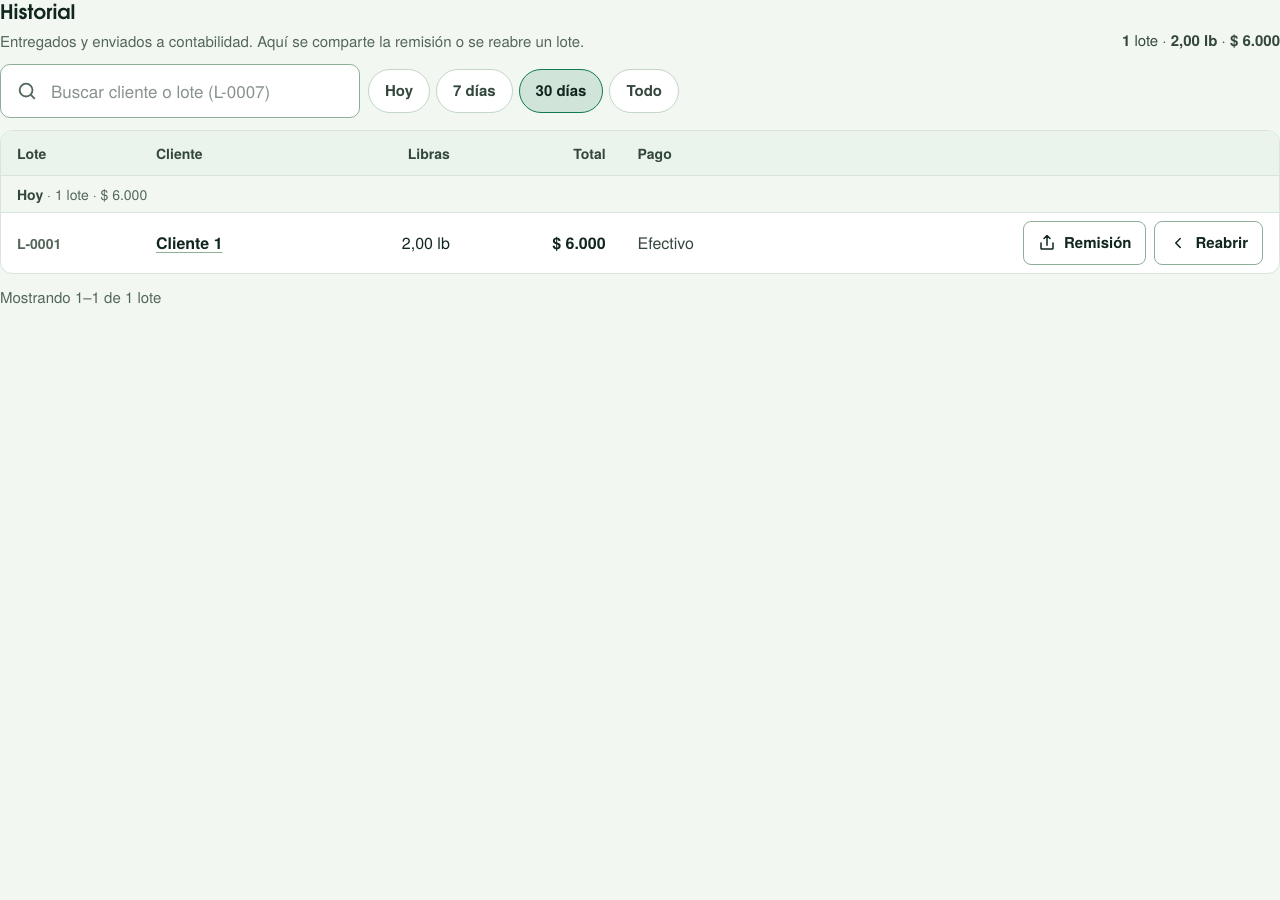
Test: Historial › cancelar no reabre
Click the button "Reabrir" at (1209,243), box 1154,221 -> 1263,265
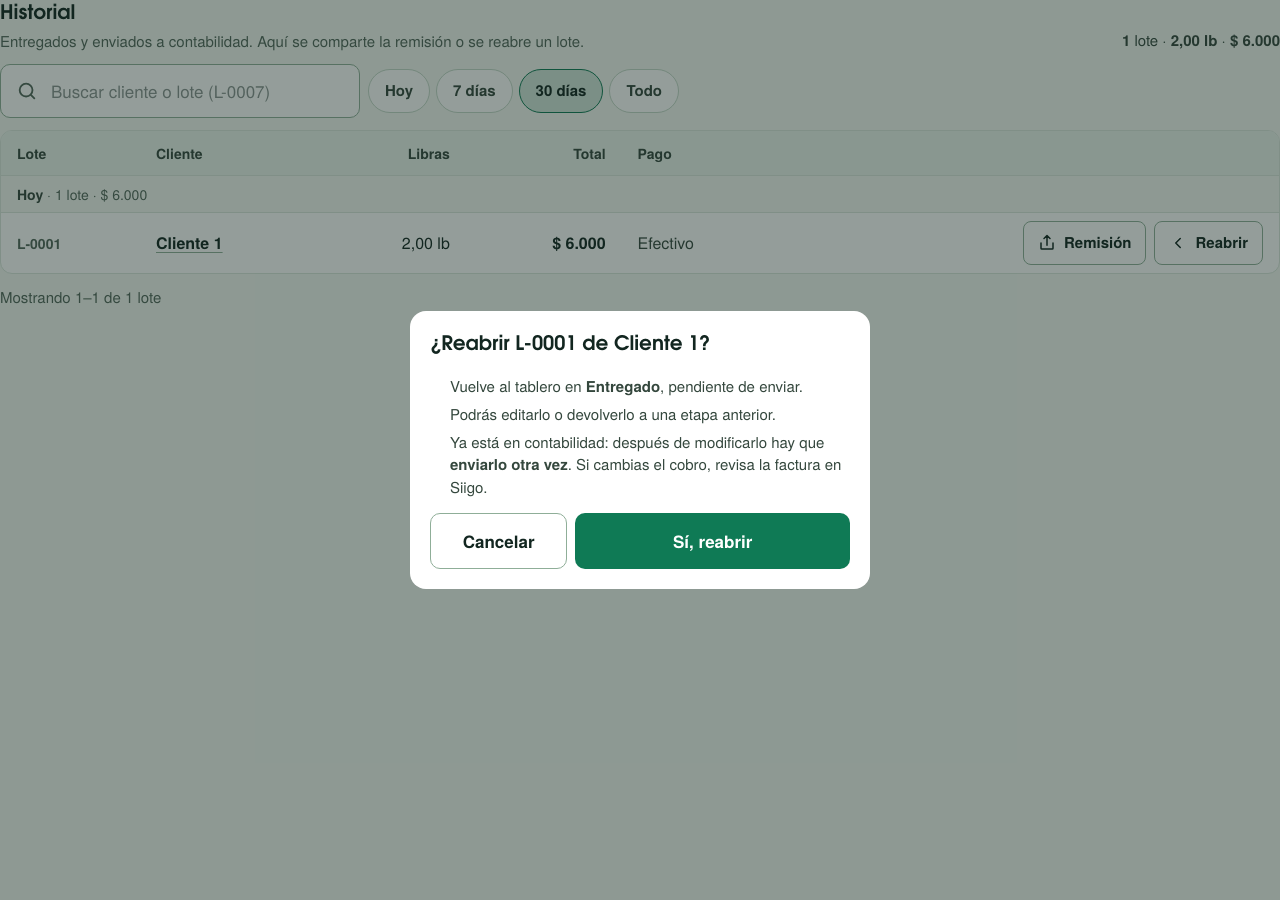
Click the button "Cancelar" at (499,541), box 430,513 -> 567,569
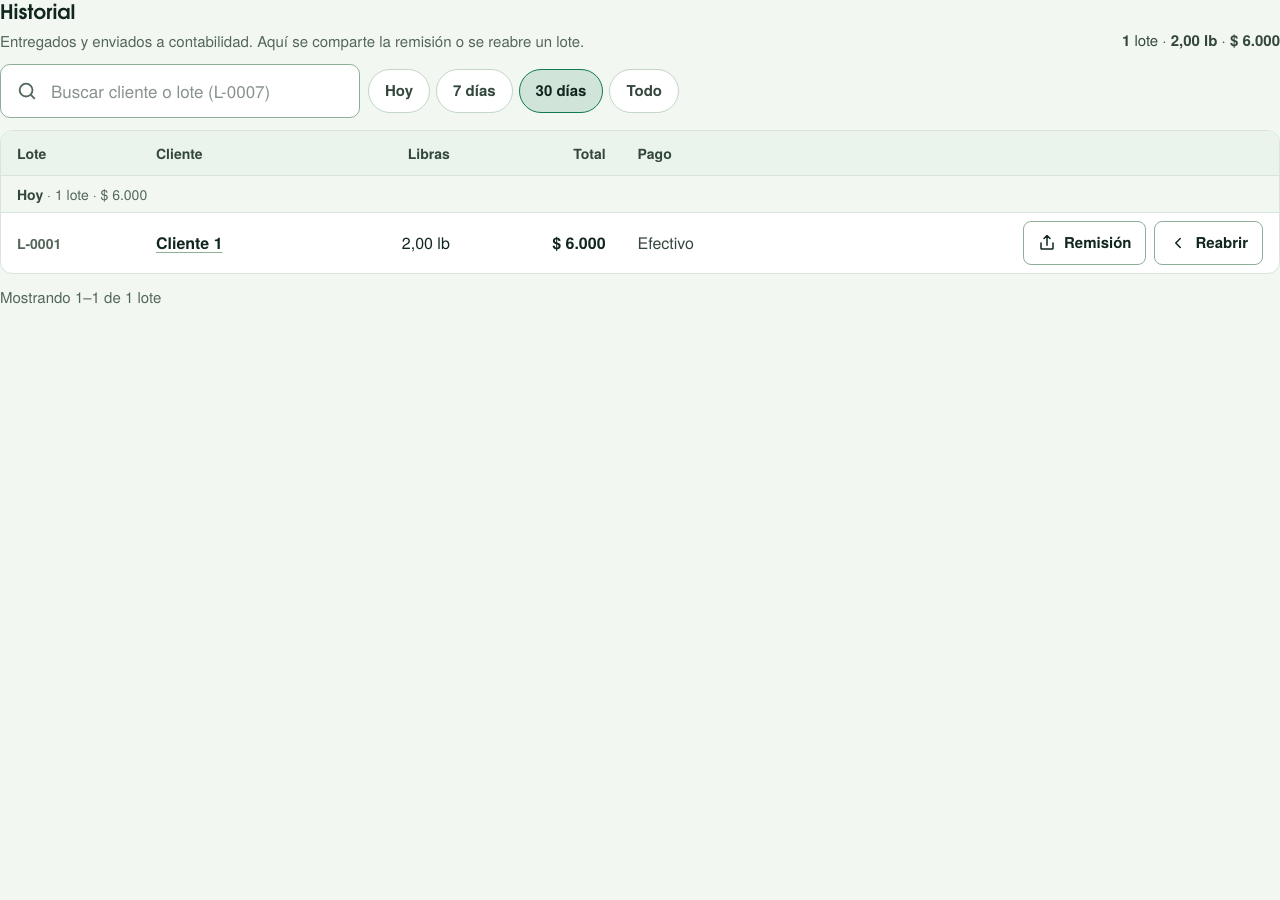
Now the dialog is gone
